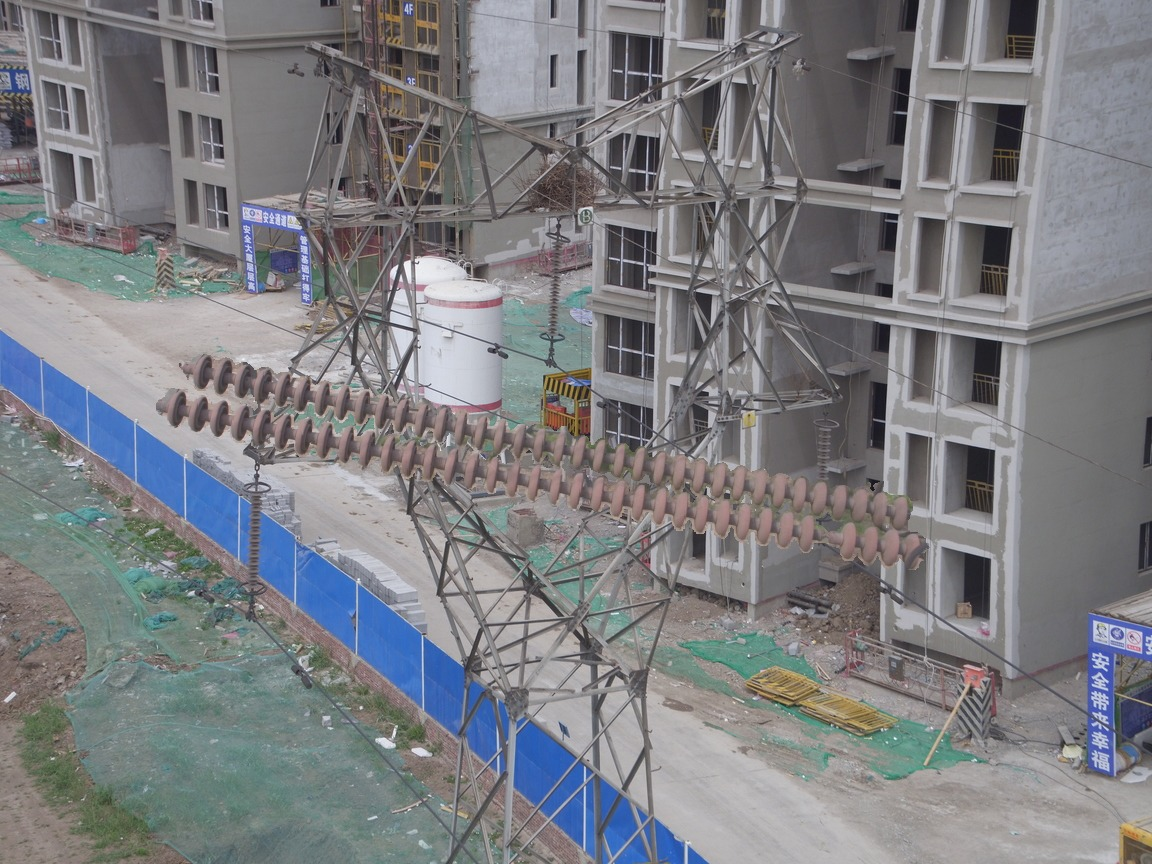defect: (791, 514, 864, 562)
